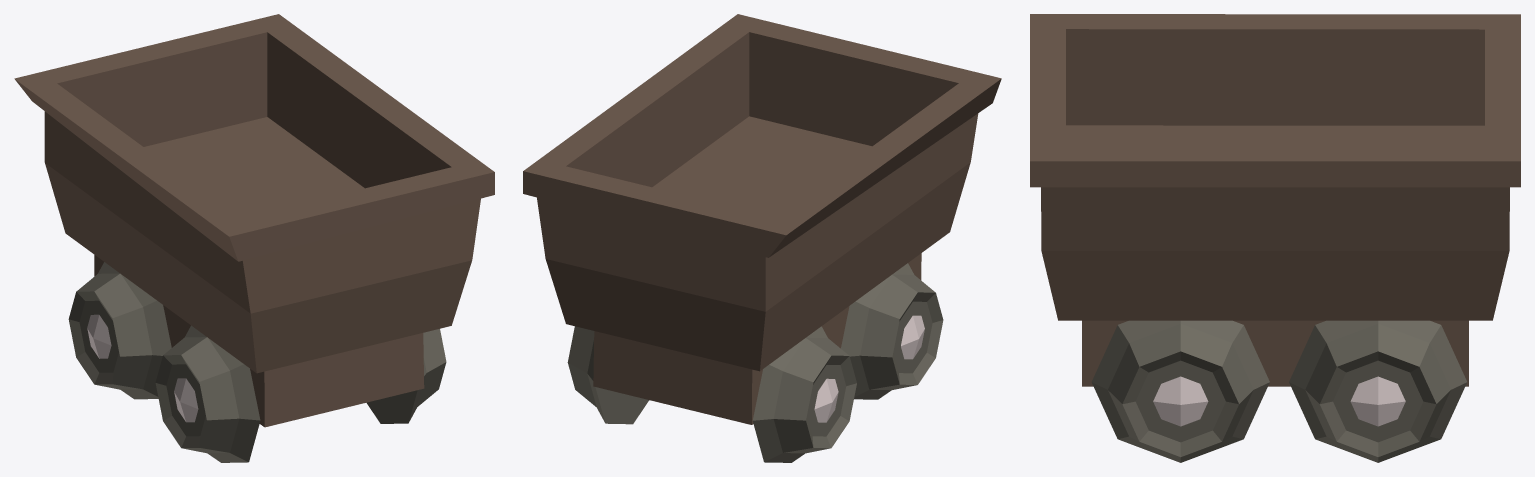
The model's file is Train_MineCart.fbx.
The picture shows the model from 3 angles, left to right: view 1: azimuth 30°, elevation 25°; view 2: azimuth 150°, elevation 25°; view 3: azimuth 270°, elevation 25°; orthographic projection. The views are drawn at different scales.
Parts seen in each view (by area): view 1: MineCart; view 2: MineCart; view 3: MineCart.
Boxes of the visible parts, bbox=[...] form: MineCart: bbox=[14, 14, 494, 462]; MineCart: bbox=[523, 14, 1001, 462]; MineCart: bbox=[1030, 14, 1520, 462].
Size of the model in its own units: 48.21 by 67.91 by 50.13.
